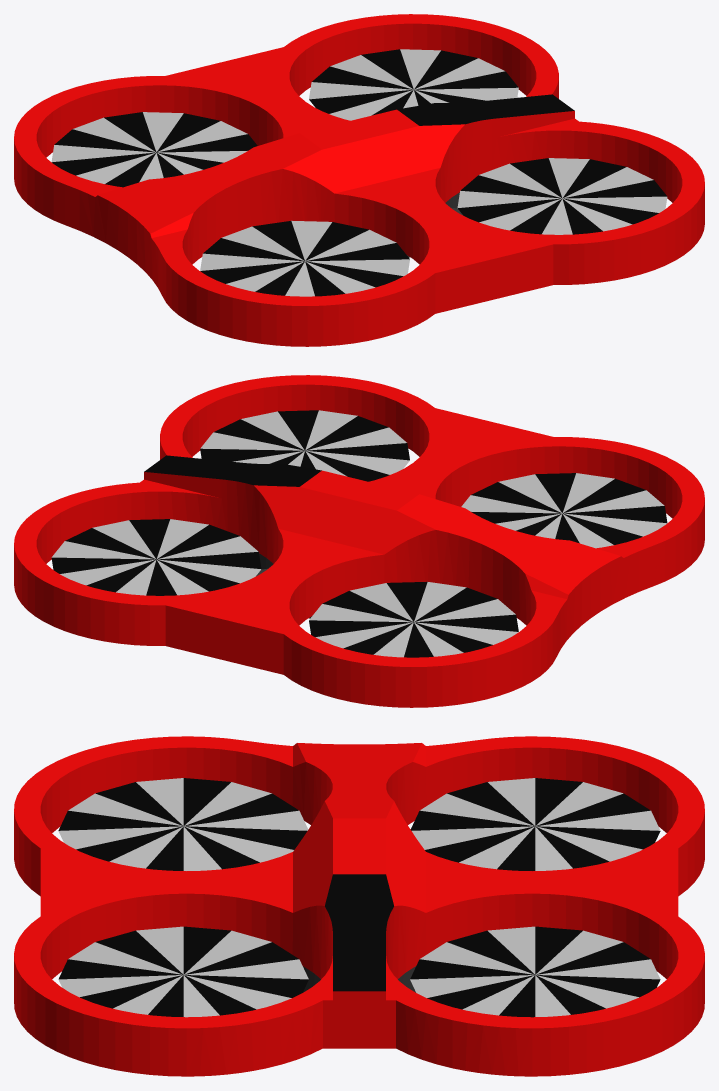
Rendered from quadrotor_4.dae.
3 renders of one model, top to bottom at view 1: azimuth 30°, elevation 25°; view 2: azimuth 150°, elevation 25°; view 3: azimuth 270°, elevation 25°, orthographic. The views are drawn at different scales.
Visible parts, largest first — view 1: Cover; view 2: Cover; view 3: Cover.
Boxes of the visible parts, x1=… form: Cover: x1=14, y1=14, x2=704, y2=346; Cover: x1=14, y1=375, x2=704, y2=707; Cover: x1=14, y1=736, x2=704, y2=1076.
Bounding box in the file's own units: 0.52 × 0.5199 × 0.11.
